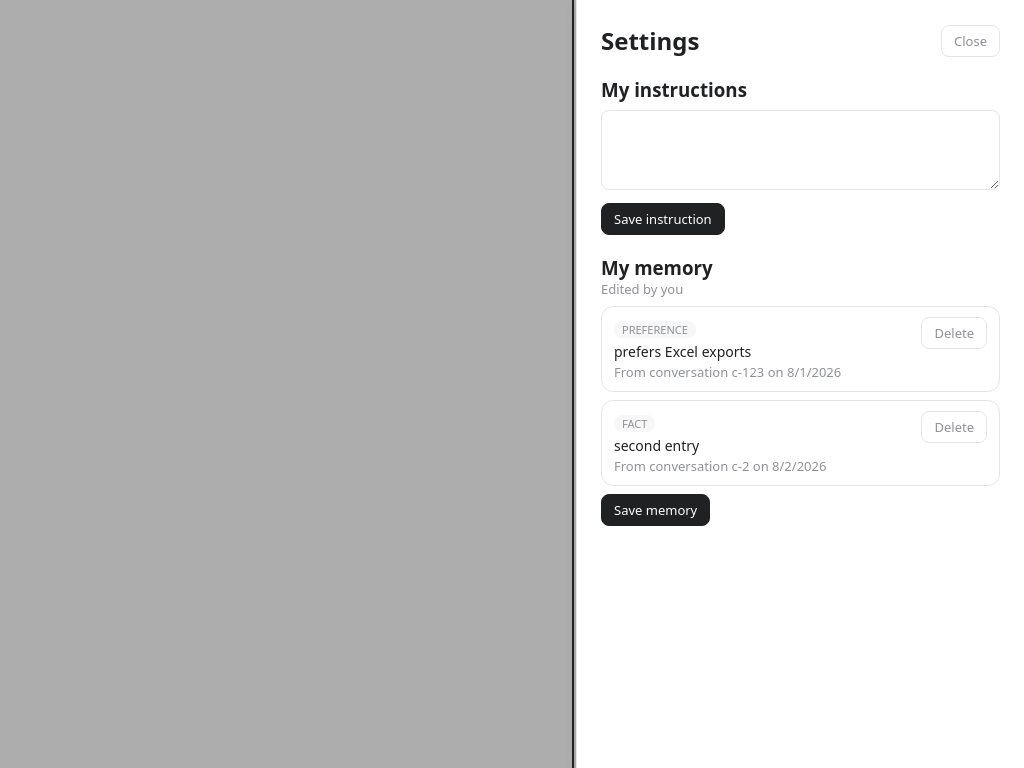
it: a successful memory save disables the Save memory button again
Click the button with aria-label "delete entry: prefers excel exports".
click(954, 333)  # box [922,317,987,349]
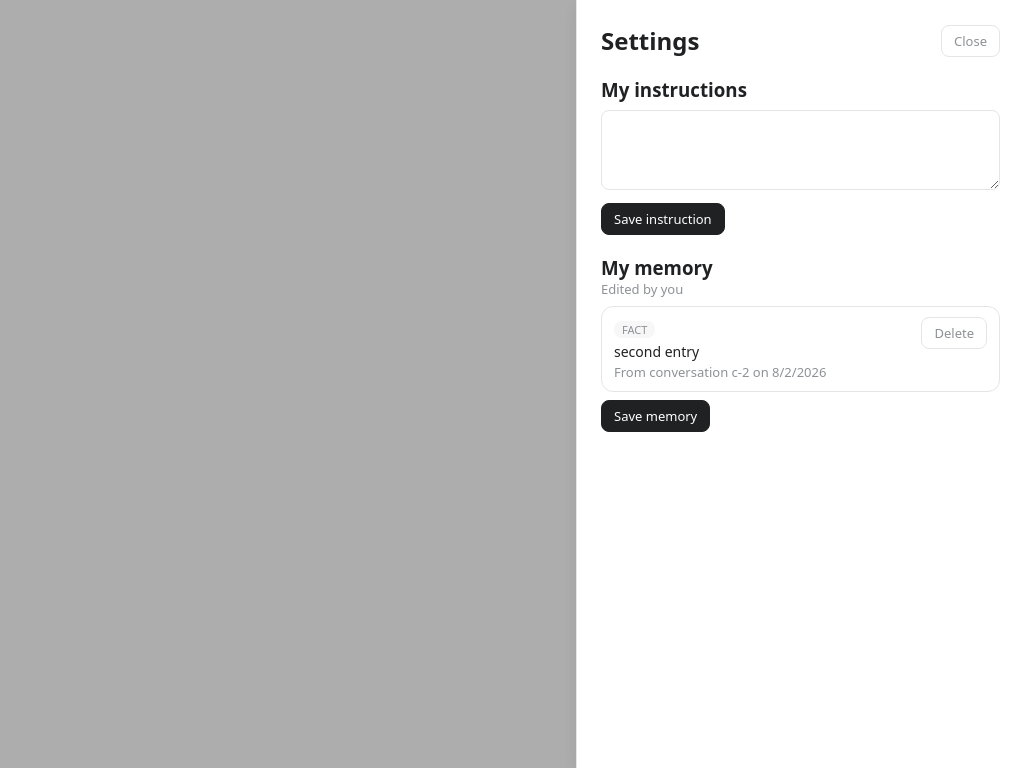
Check: the button "Save memory" is enabled
Click the button "Save memory".
click(656, 416)  # box [601,400,710,432]
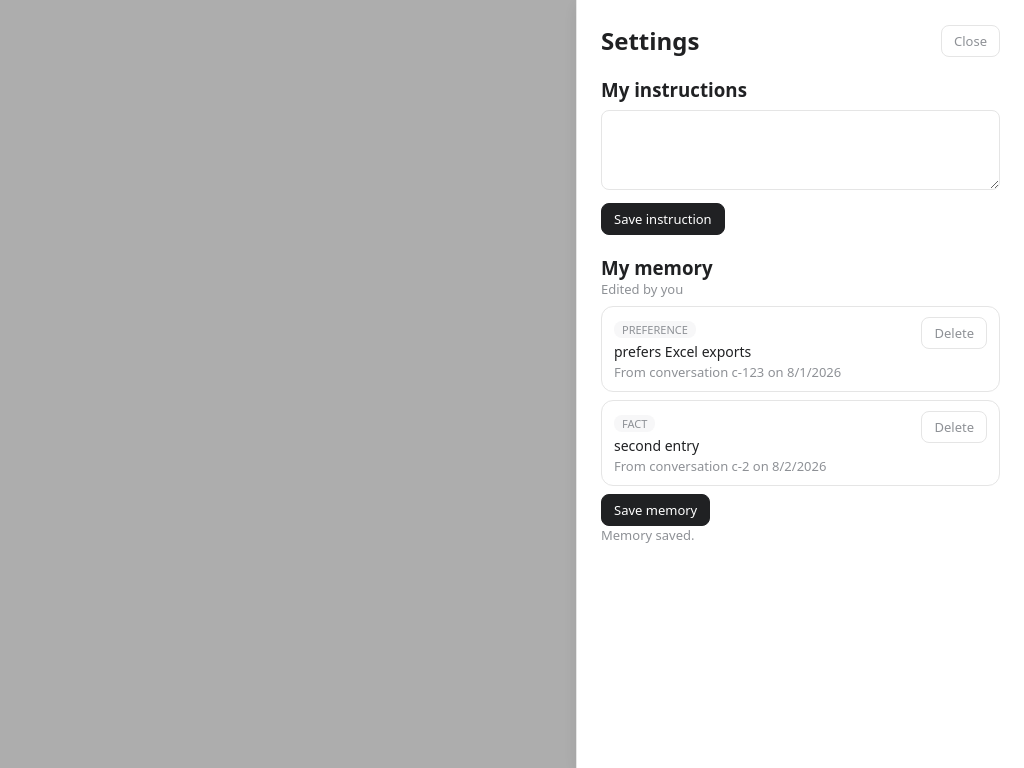
Check: the button "Save memory" is disabled, box [601,494,710,526]
